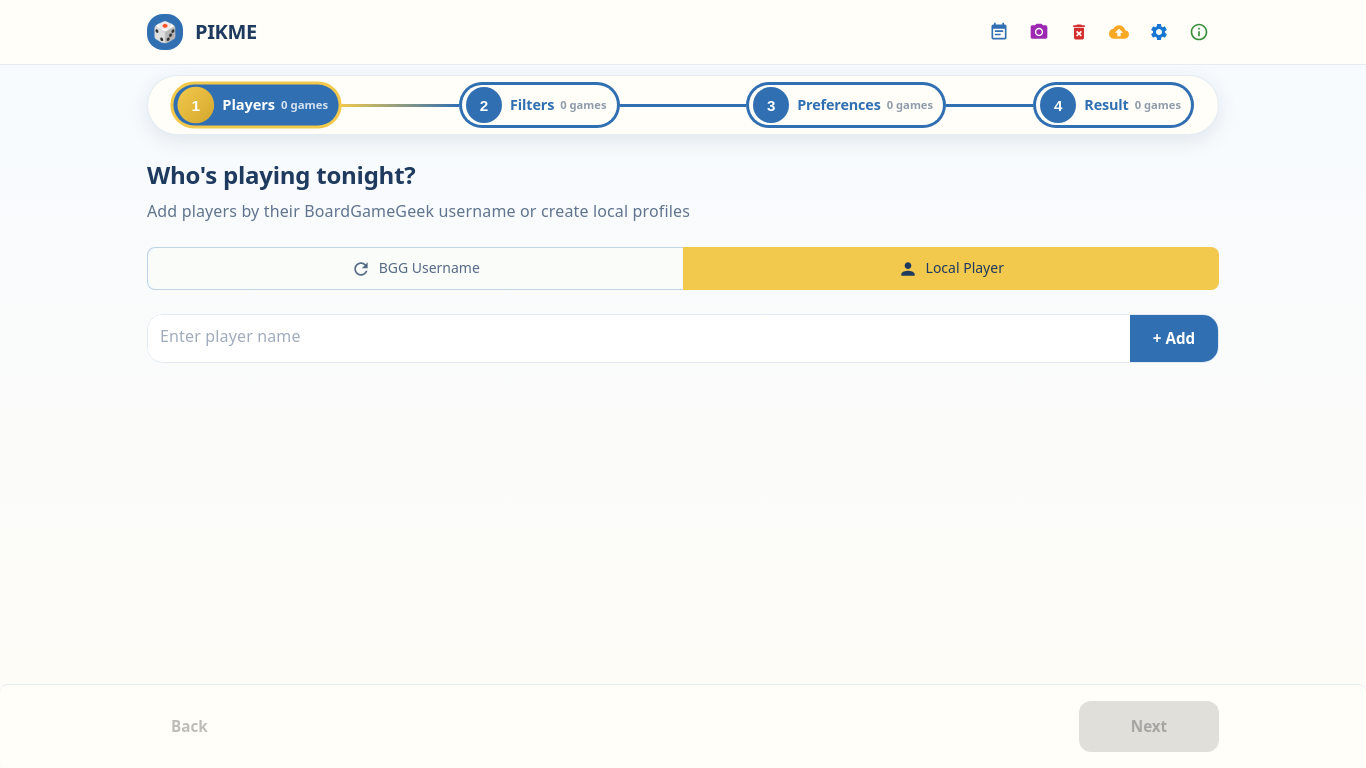
Test: WizardPage › opens the walkthrough dialog from the header Help icon
Step 1. Click the button named "Help" → (1199, 32), box [1179,12,1219,52]
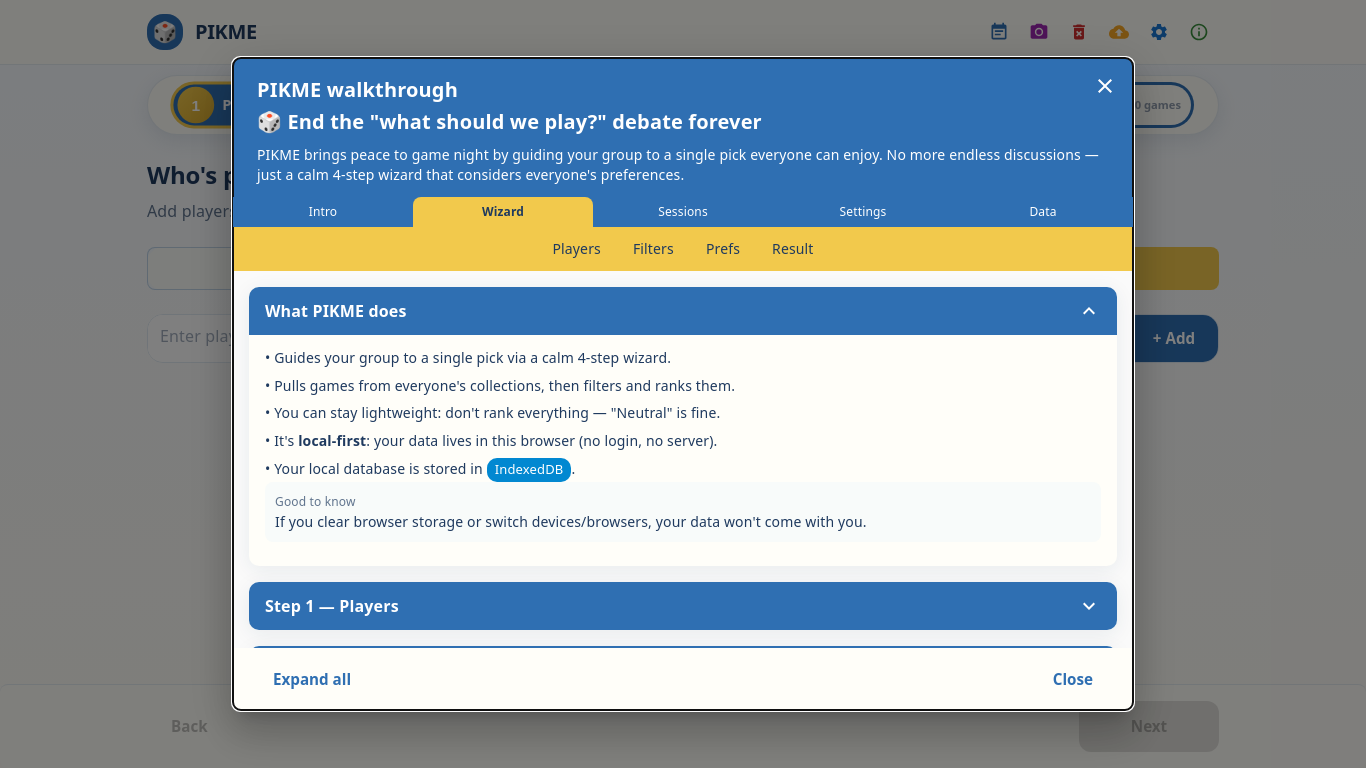
Check: the heading "PIKME walkthrough" is shown, box [233,58,1133,106]
